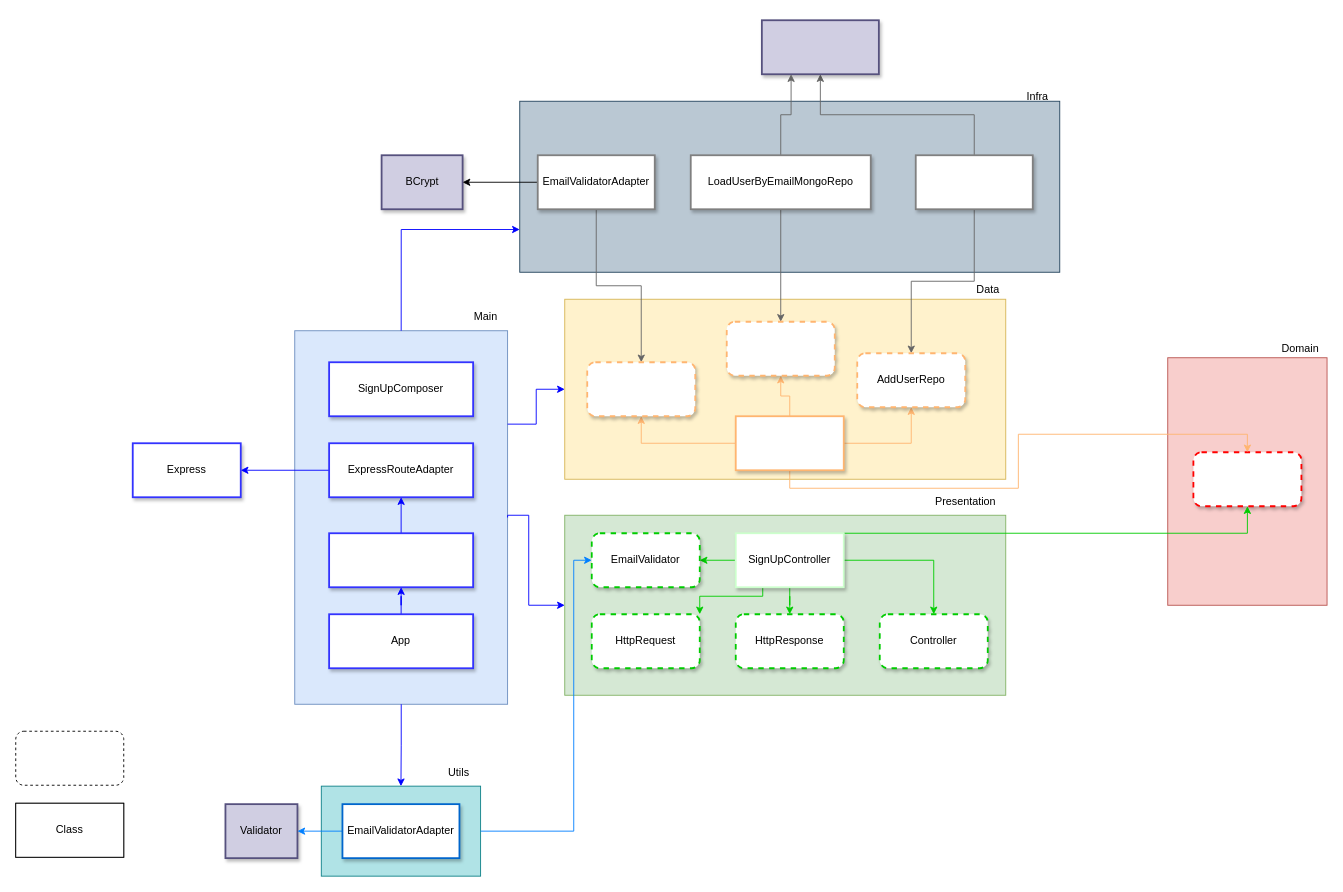
The diagram is 1343 pixels wide and 892 high, and some of its shapes have lost their labels. Here are the shapes that lost their labels. From the top down, the centre of each, then its label:
the point at 821,48: MongoDb
the point at 975,183: AddUserMongoRepo
the point at 781,349: LoadUserByEmail
the point at 641,390: Encrypter
the point at 790,444: DbAddAccount
the point at 1247,480: AddAccount
the point at 401,561: SignUpRouter
the point at 69,757: Interface
